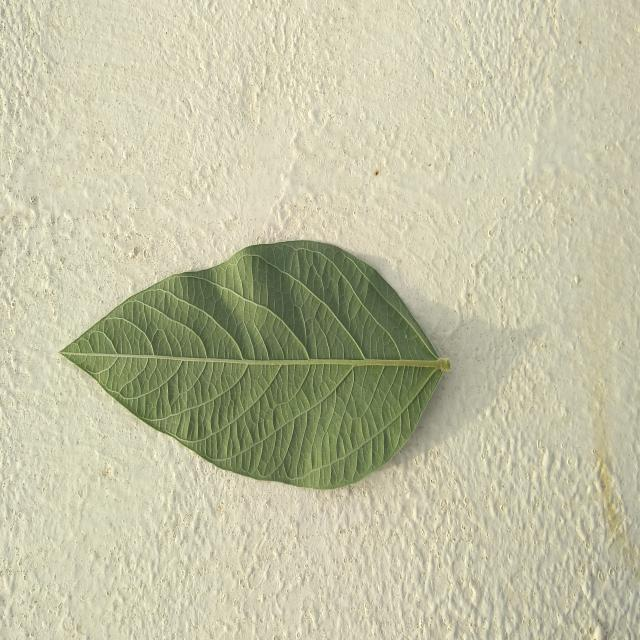leaf: (58, 237, 451, 489)
